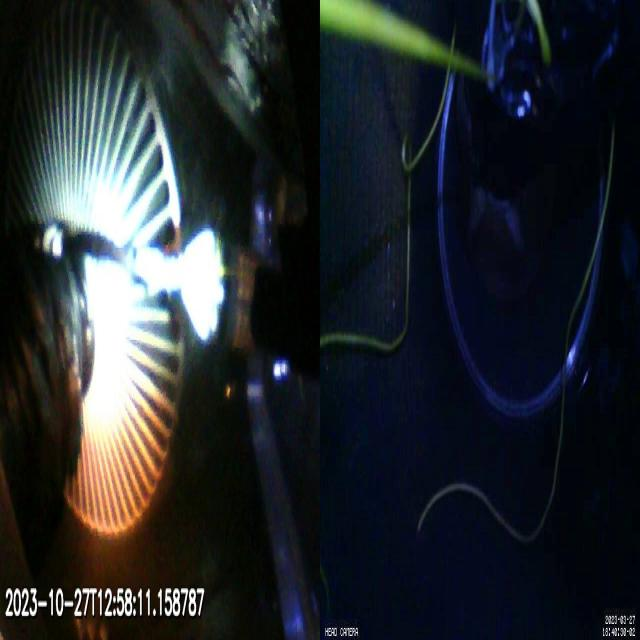head: (186, 232, 278, 351)
white-dots: (33, 220, 66, 262)
